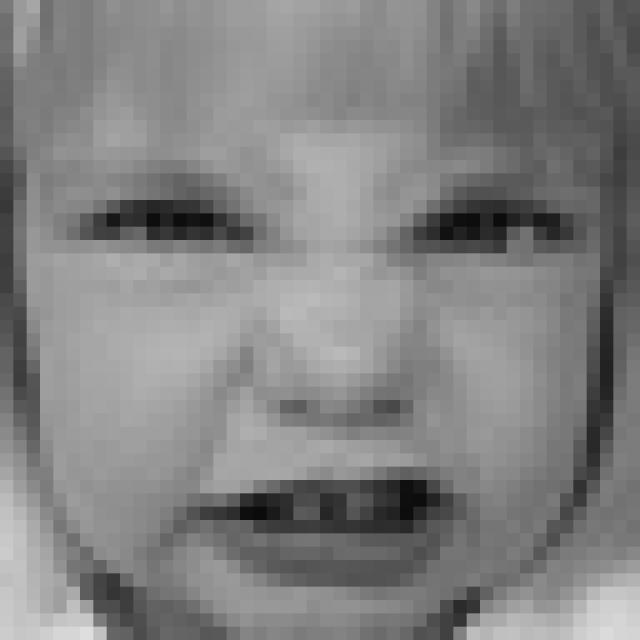angry: (65, 161, 581, 591)
